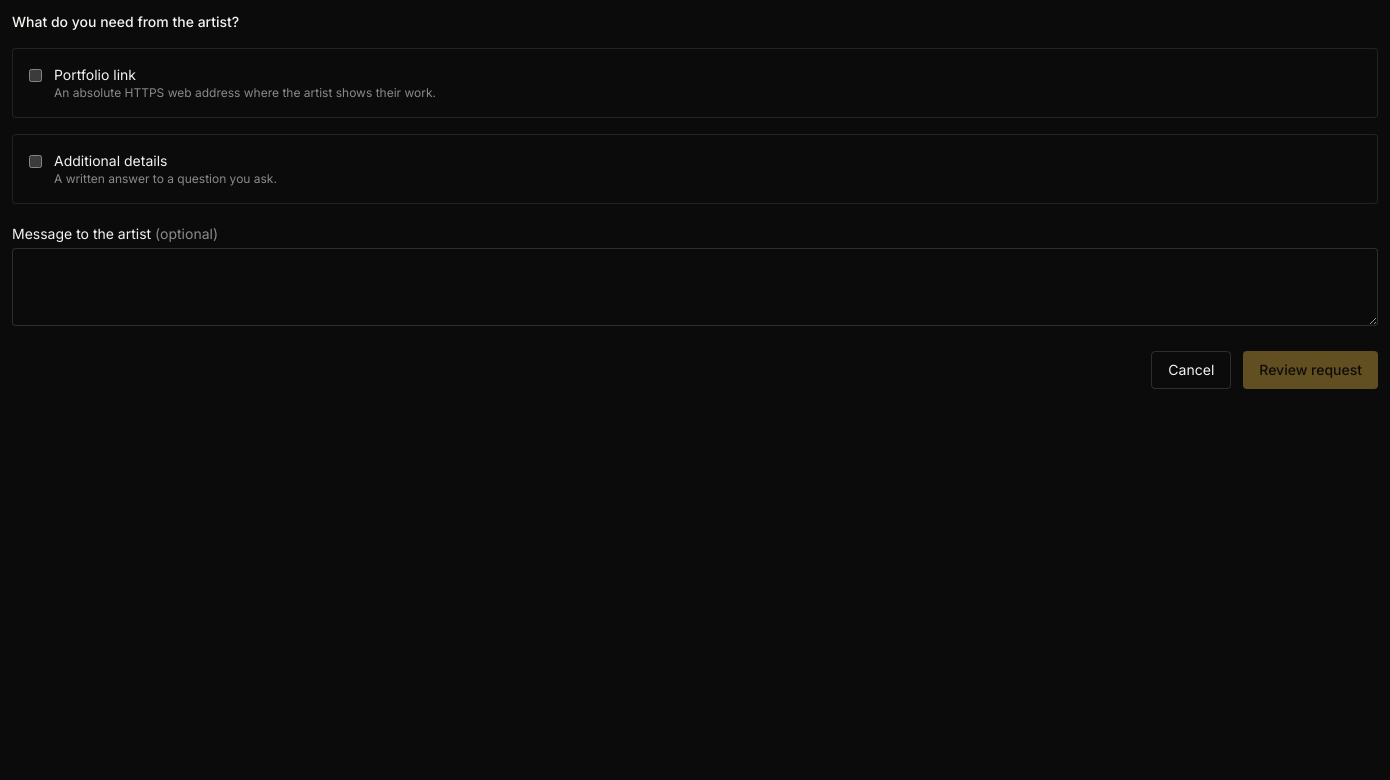
Test: VerificationRequestComposer › cannot proceed with nothing selected, or a selected field without instructions
Check: the button "Review request" is disabled, box [1243,351,1378,389]
Click the checkbox labelled "Portfolio link" at (36, 76), box [29,69,42,82]
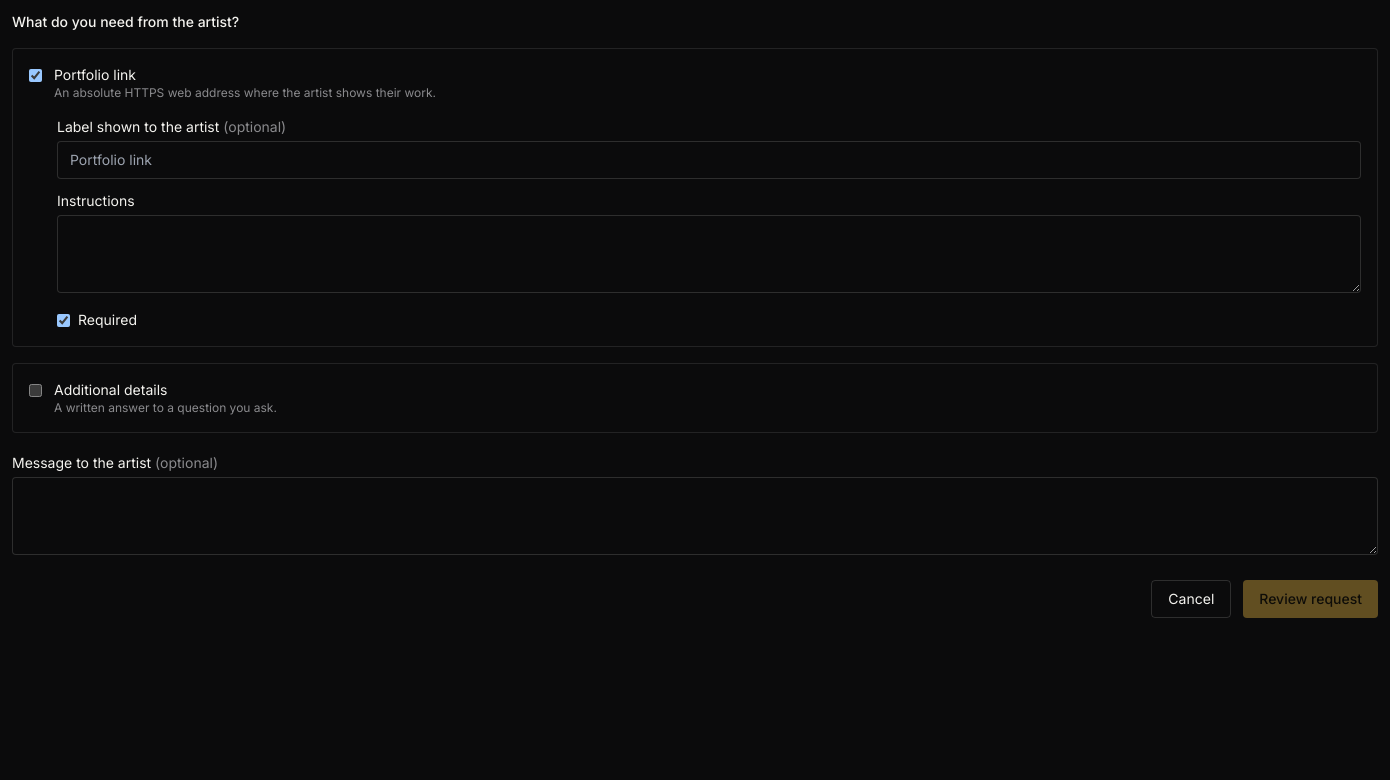
Check: the button "Review request" is disabled, box [1243,580,1378,618]
Type "Link to your portfolio" into the text box labelled "Instructions" at (709, 254), box [57,215,1361,293]
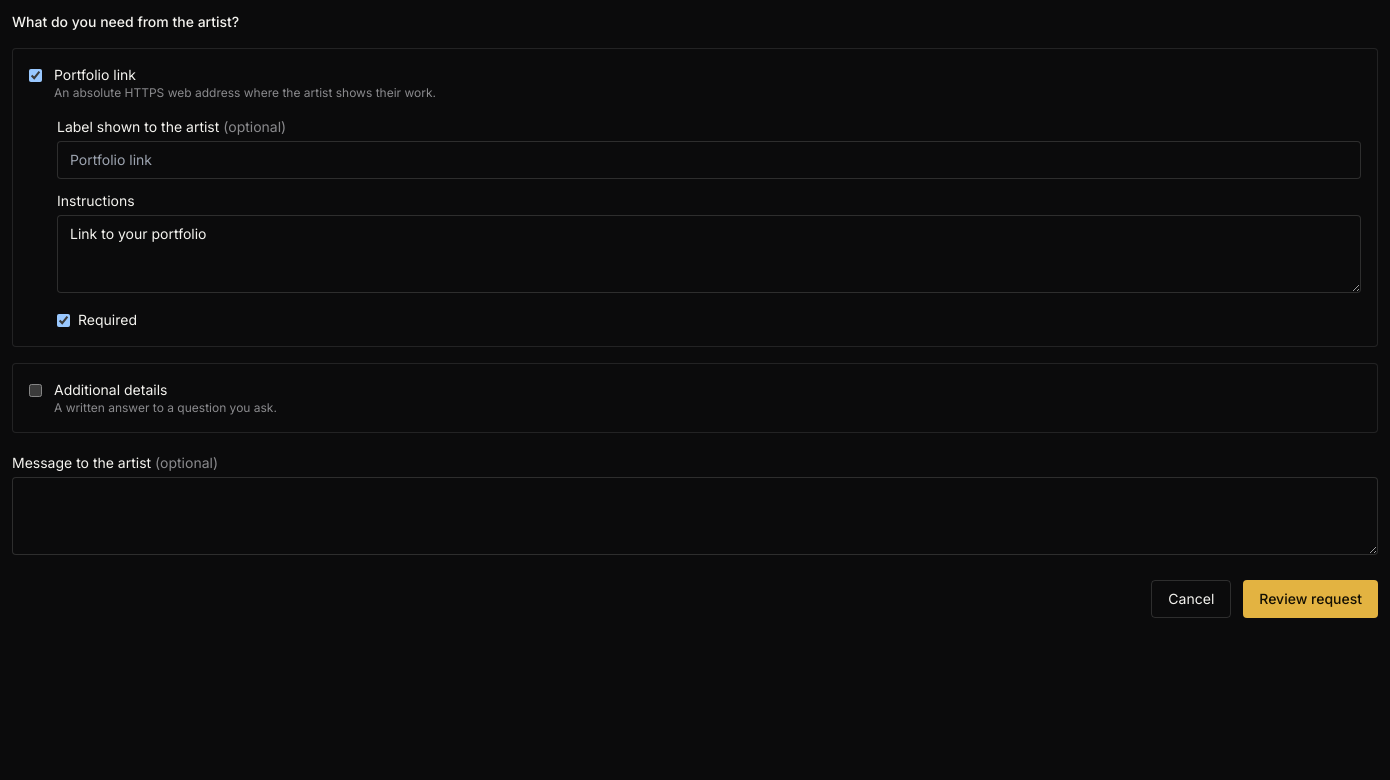
Check: the button "Review request" is enabled, box [1243,580,1378,618]
